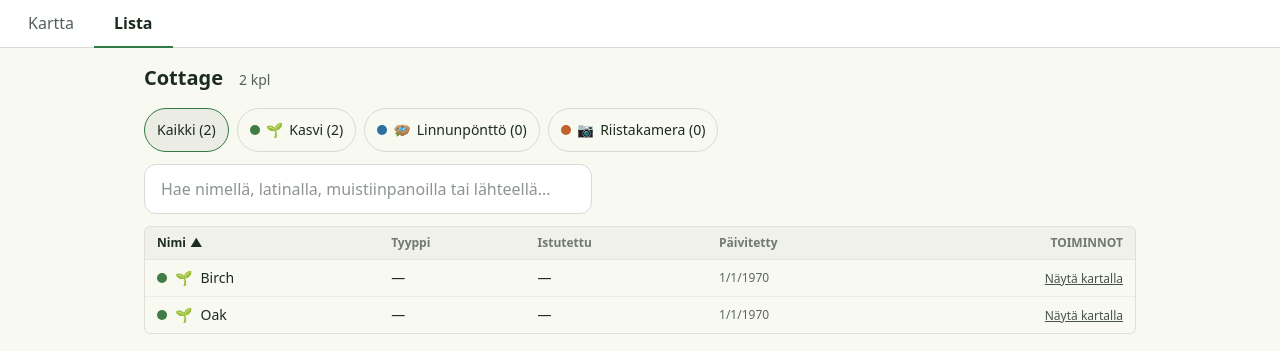
Scenario: PropertyPlants › filters by the search box
The width and height of the screenshot is (1280, 351).
Expected: the text "Oak" is shown, left=200, top=305, right=227, bottom=325
Type "birch" into the search field with placeholder "Hae nimellä, latinalla, muistiinpanoilla tai lähteellä…" at (368, 189), box left=144, top=164, right=592, bottom=214
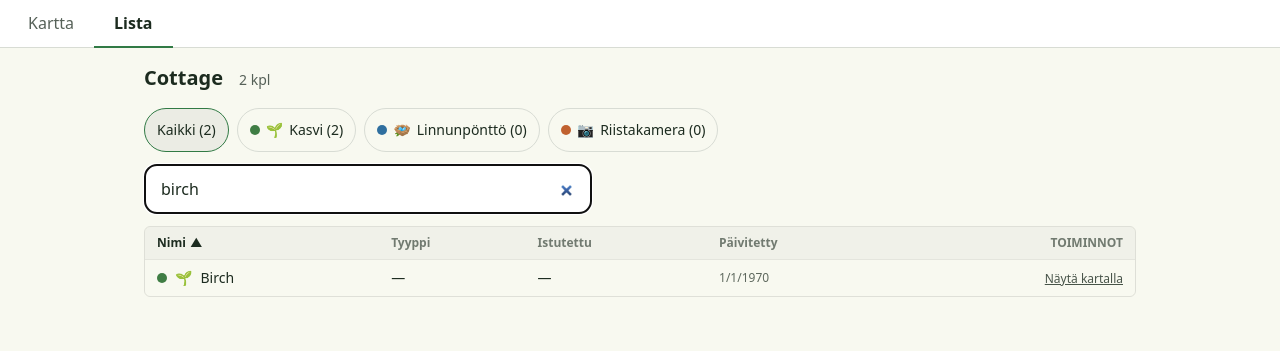
Expected: the text "Birch" is shown, left=200, top=268, right=234, bottom=288
Result: the text "Oak" is gone
